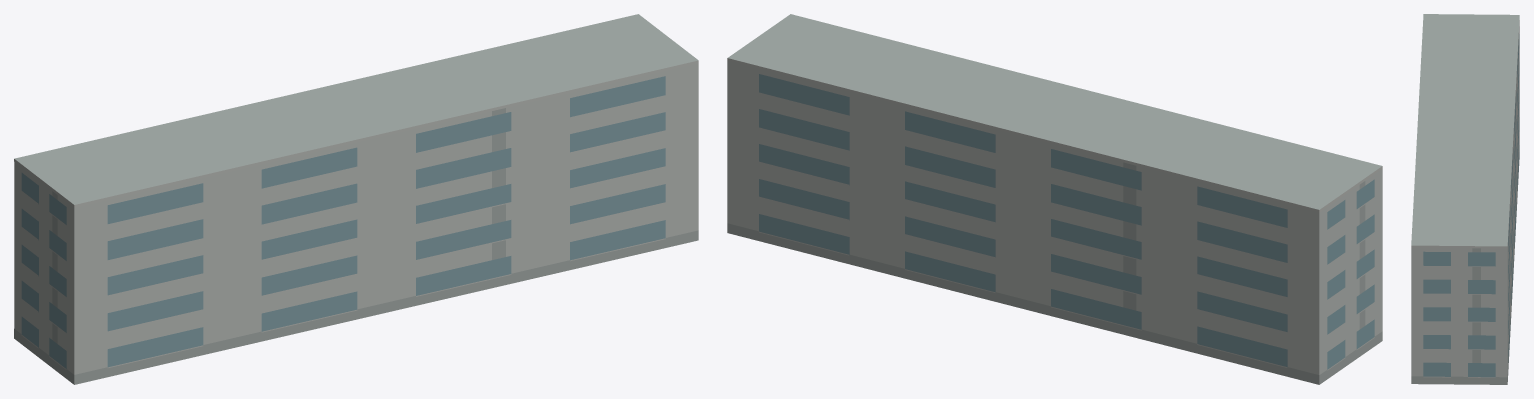
File: residential-a86d1ab9-468c-4ba7-9bf8-d643341ff7da.glb
3 views of the same model, side by side, from view 1: azimuth 30°, elevation 25°; view 2: azimuth 150°, elevation 25°; view 3: azimuth 270°, elevation 25° (orthographic). The views are drawn at different scales.
Visible parts, largest first — view 1: residential-a86d1ab9-468c-4ba7-9bf8-d643341ff7da.tmp; view 2: residential-a86d1ab9-468c-4ba7-9bf8-d643341ff7da.tmp; view 3: residential-a86d1ab9-468c-4ba7-9bf8-d643341ff7da.tmp.
Part boxes in pixels (box(x1,y1,x2,y2)): residential-a86d1ab9-468c-4ba7-9bf8-d643341ff7da.tmp: box(14, 14, 698, 384); residential-a86d1ab9-468c-4ba7-9bf8-d643341ff7da.tmp: box(727, 14, 1382, 384); residential-a86d1ab9-468c-4ba7-9bf8-d643341ff7da.tmp: box(1411, 14, 1519, 384).
Bounding box in the file's own units: 54.9 × 15.25 × 10.84.
